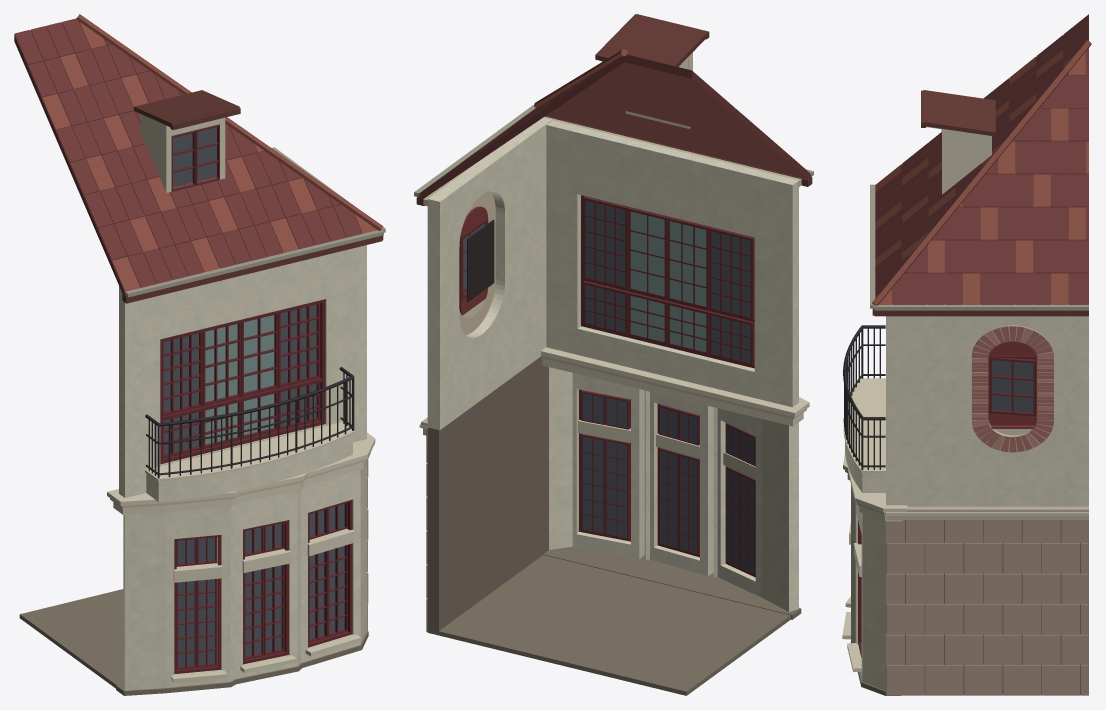
The model's file is yangpu-yangshupu-3061-end-balcony-and-oval-window-lod.glb.
The picture shows the model from 3 angles, left to right: view 1: azimuth 30°, elevation 25°; view 2: azimuth 150°, elevation 25°; view 3: azimuth 270°, elevation 25°; orthographic projection. The views are drawn at different scales.
Parts seen in each view (by area): view 1: 杨树浦路3061弄住宅端部阳台与椭圆砖窗; view 2: 杨树浦路3061弄住宅端部阳台与椭圆砖窗; view 3: 杨树浦路3061弄住宅端部阳台与椭圆砖窗.
Boxes of the visible parts, <box> form: 杨树浦路3061弄住宅端部阳台与椭圆砖窗: <box>14,14,385,695</box>; 杨树浦路3061弄住宅端部阳台与椭圆砖窗: <box>414,14,813,695</box>; 杨树浦路3061弄住宅端部阳台与椭圆砖窗: <box>842,14,1091,695</box>.
Bounding box in the file's own units: 4.8 × 10.33 × 4.1.
Materials: 20 (1 with a texture image).
